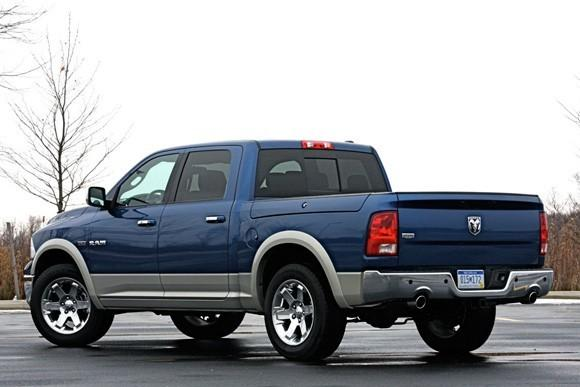car: (10, 113, 580, 380)
